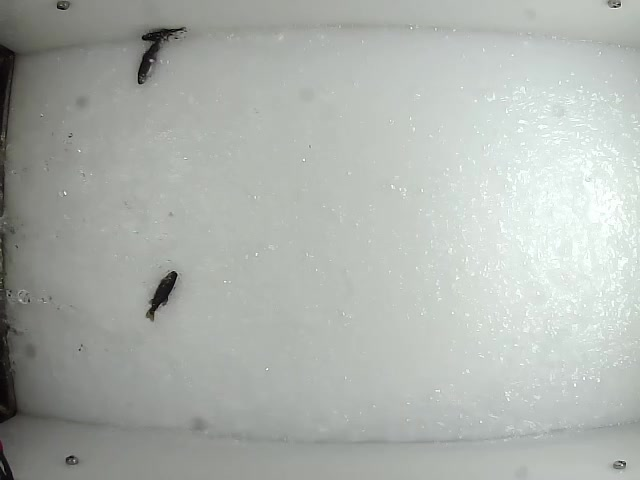fish: (143, 269, 179, 323), (137, 34, 174, 85), (137, 23, 190, 42)
